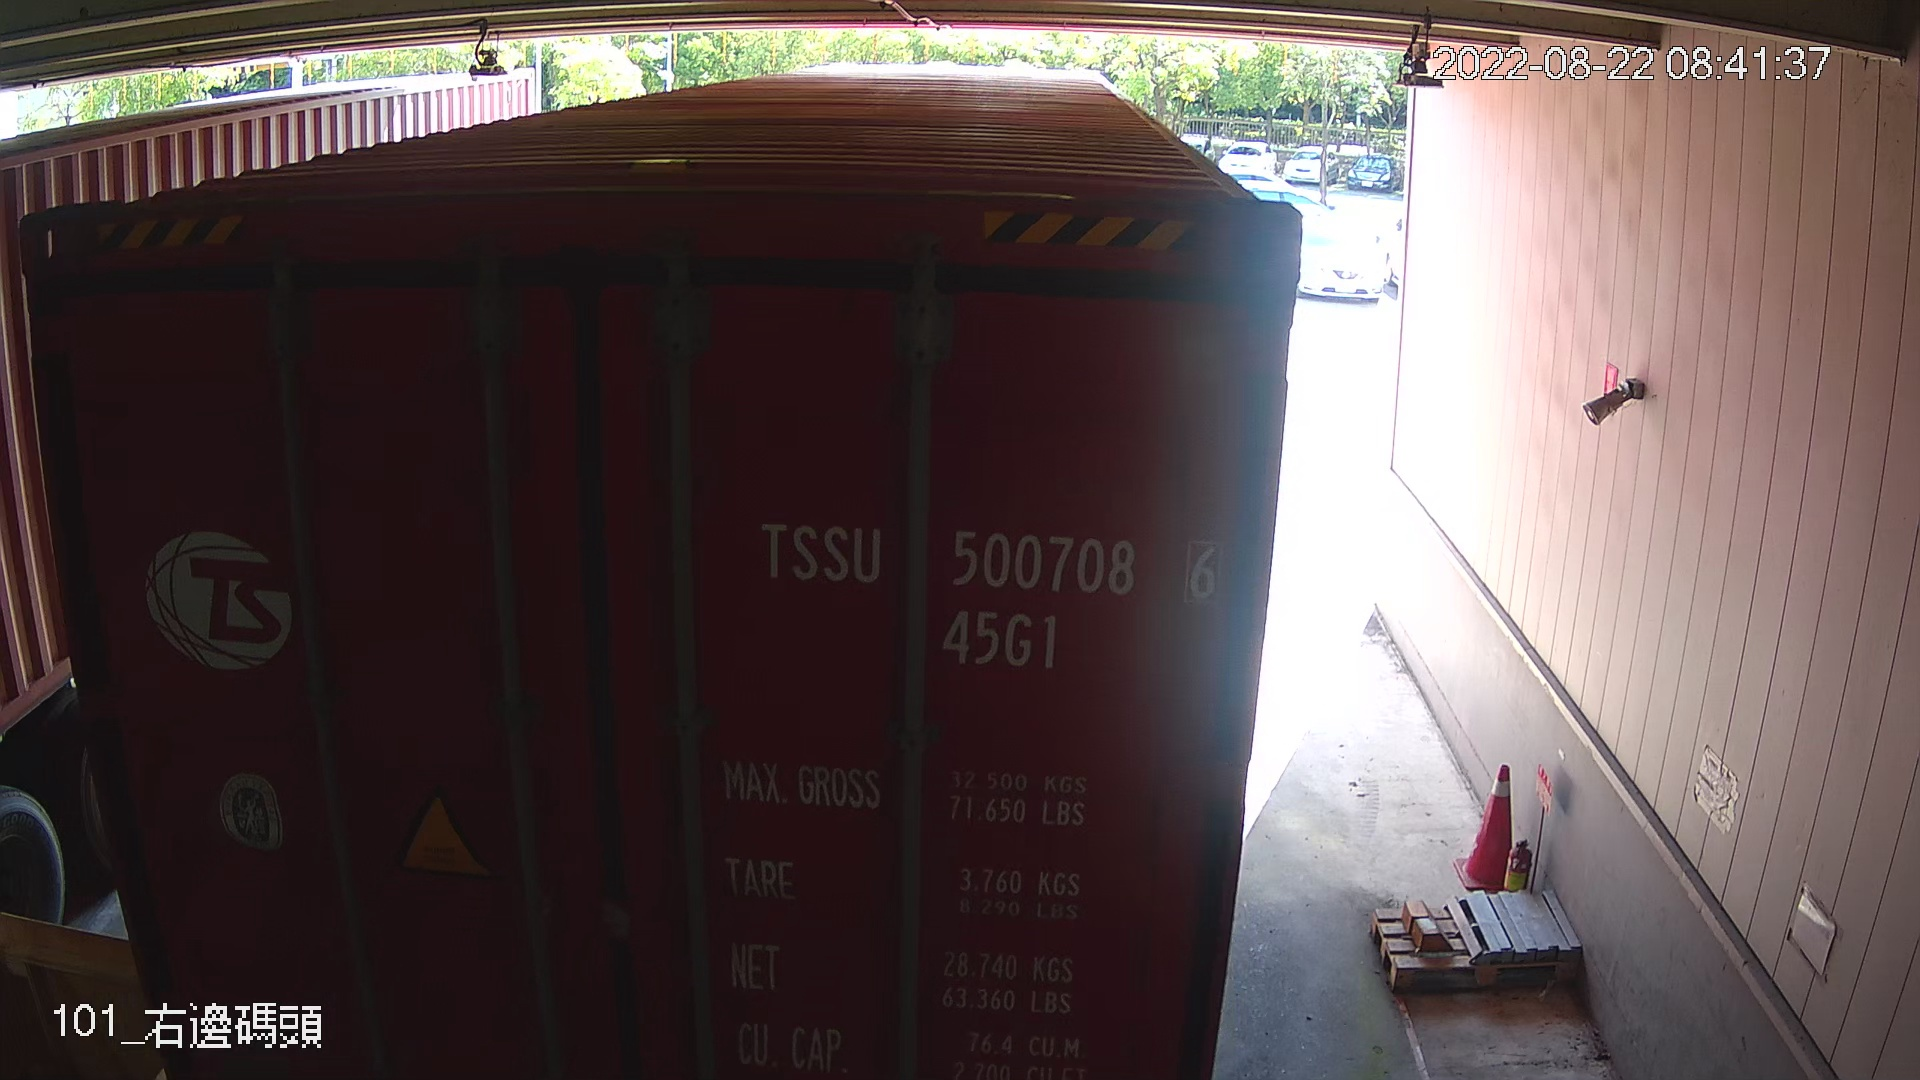container: (745, 495, 1236, 676)
